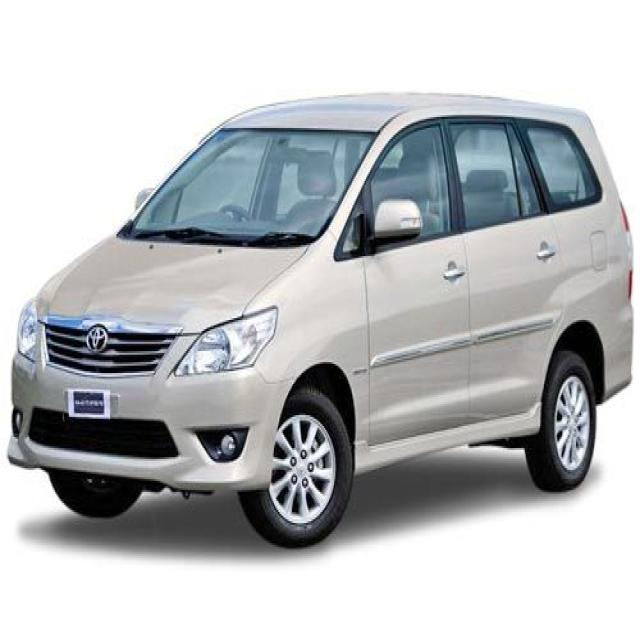light_vehicle: (6, 92, 638, 550)
